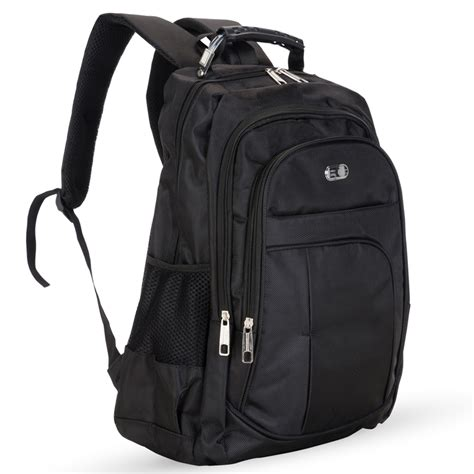nylon: (23, 12, 409, 465)
